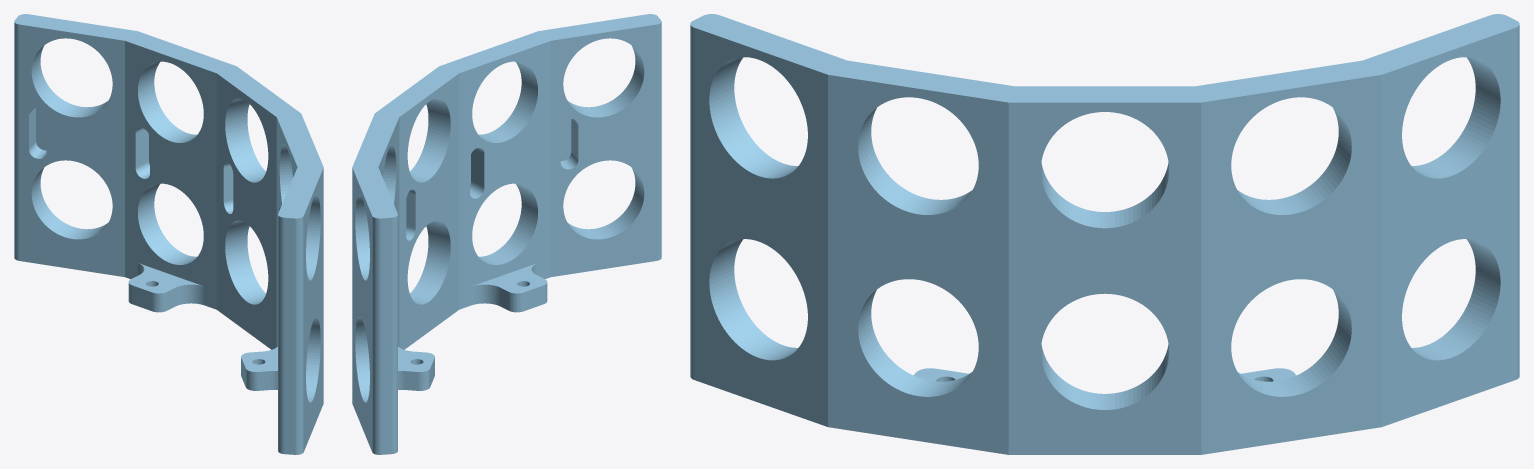
Rendered from suporte_sonar.dae.
3 views of the same model, side by side, from view 1: azimuth 30°, elevation 25°; view 2: azimuth 150°, elevation 25°; view 3: azimuth 270°, elevation 25° (orthographic). The views are drawn at different scales.
Visible parts, largest first — view 1: ID2; view 2: ID2; view 3: ID2.
Part boxes in pixels (x1,y1,x2,y2): ID2: [14, 14, 323, 454]; ID2: [352, 14, 661, 454]; ID2: [690, 14, 1519, 454].
Bounding box in the file's own units: 0.027 × 0.1067 × 0.05.
